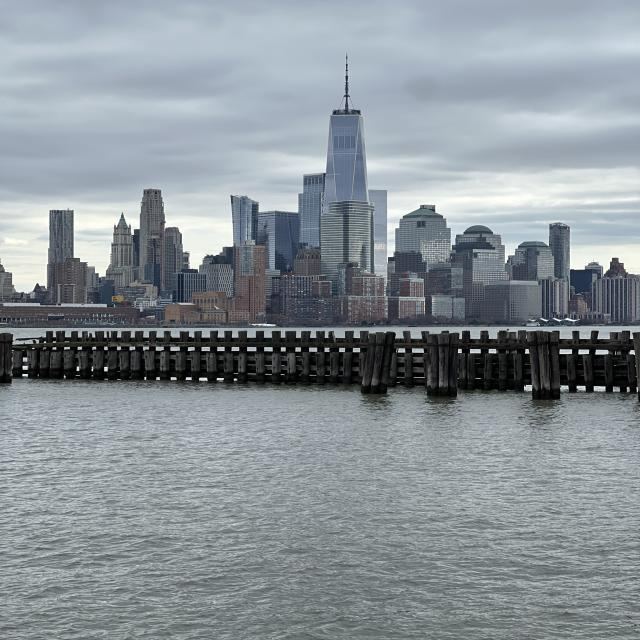WTC: (324, 52, 371, 202)
